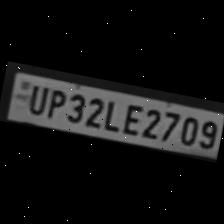0: (174, 113, 200, 146)
2: (81, 92, 107, 129), (138, 104, 163, 141)
3: (62, 88, 87, 123)
7: (155, 106, 180, 144)
9: (194, 117, 221, 150)
E: (118, 100, 144, 136)
L: (99, 96, 122, 132)
P: (42, 84, 68, 122)
U: (22, 80, 48, 116)
